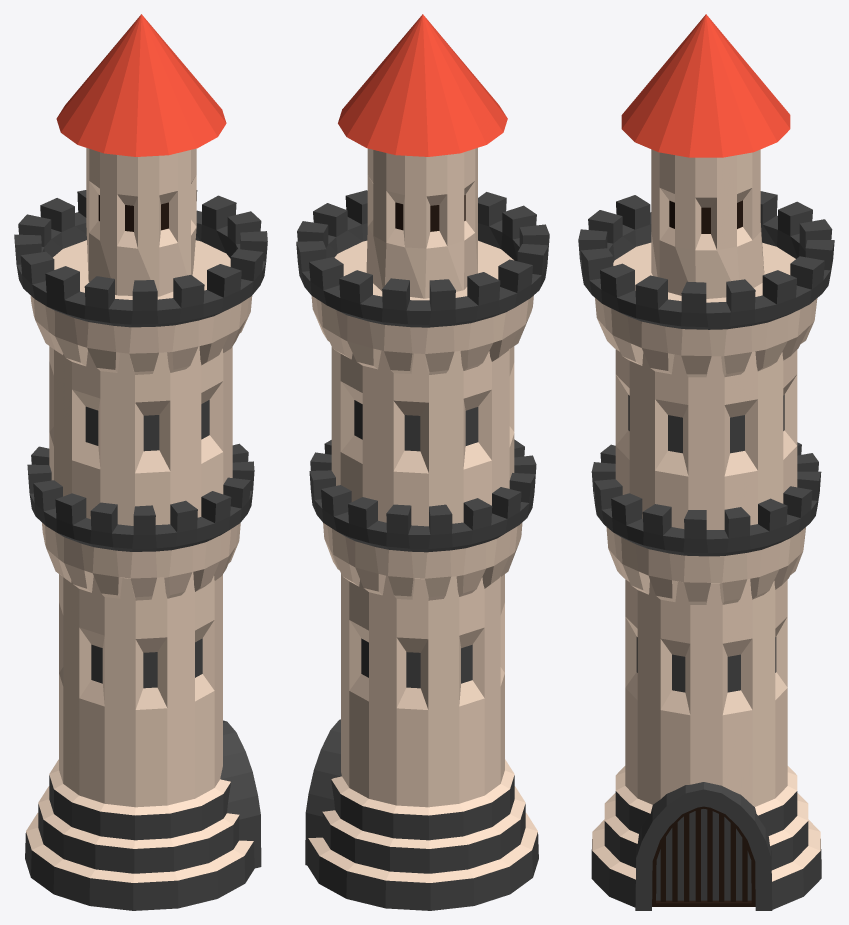
Rendered from tour-3 (source).glb.
The picture shows the model from 3 angles, left to right: view 1: azimuth 30°, elevation 25°; view 2: azimuth 150°, elevation 25°; view 3: azimuth 270°, elevation 25°; orthographic projection.
Visible parts, largest first — view 1: Castle.010; view 2: Castle.010; view 3: Castle.010.
Part boxes in pixels (x1,y1,x2,y2): Castle.010: (14, 14, 267, 910); Castle.010: (296, 14, 549, 910); Castle.010: (578, 14, 834, 910).
Size of what is drawn, in the model's own units: 3.92 by 14.42 by 3.92.
1 material, 1 textured.
